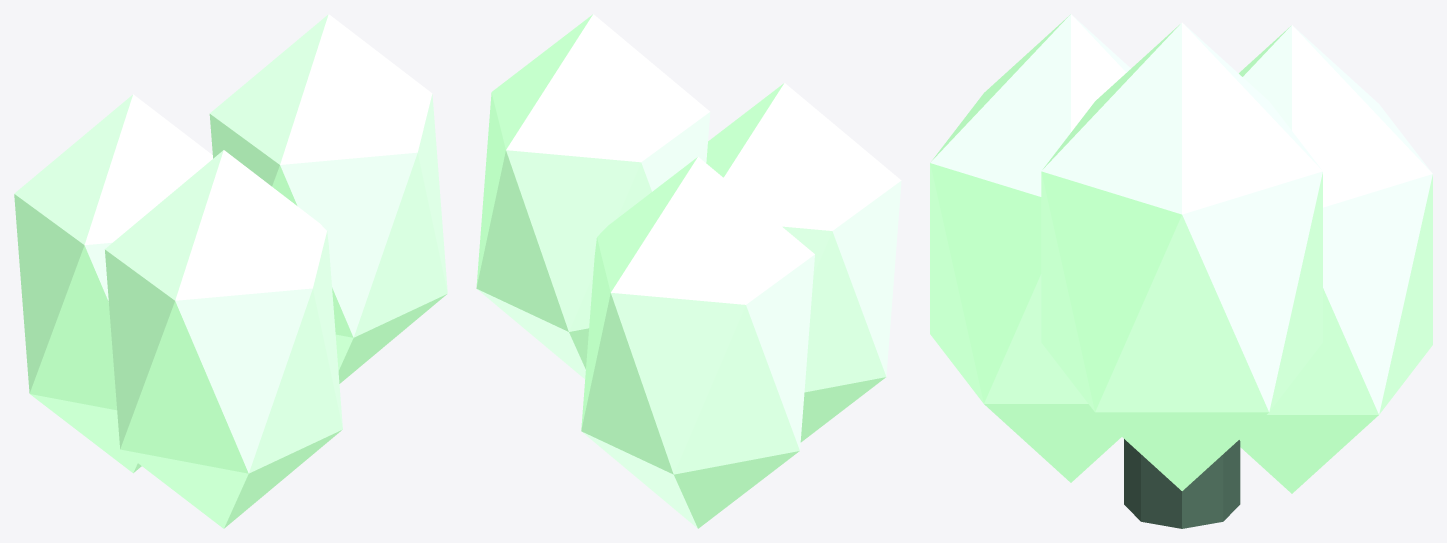
Rendered from nutrient.glb.
3 views of the same model, side by side, from view 1: azimuth 30°, elevation 25°; view 2: azimuth 150°, elevation 25°; view 3: azimuth 270°, elevation 25° (orthographic). The views are drawn at different scales.
Parts seen in each view (by area): view 1: nutrient; view 2: nutrient; view 3: nutrient.
Boxes of the visible parts, x1,y1,x2,y2 form: nutrient: (14,14,447,528); nutrient: (476,14,901,528); nutrient: (930,14,1432,528).
Size of the model in its own units: 0.3958 by 0.48 by 0.3886.
